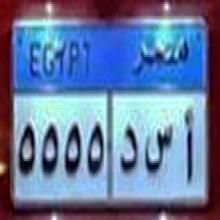5: (40, 112, 60, 179), (60, 120, 82, 175), (17, 118, 36, 176), (87, 121, 105, 177)
alif: (182, 104, 196, 185)
daal: (119, 119, 139, 180)
seen: (143, 116, 173, 182)
